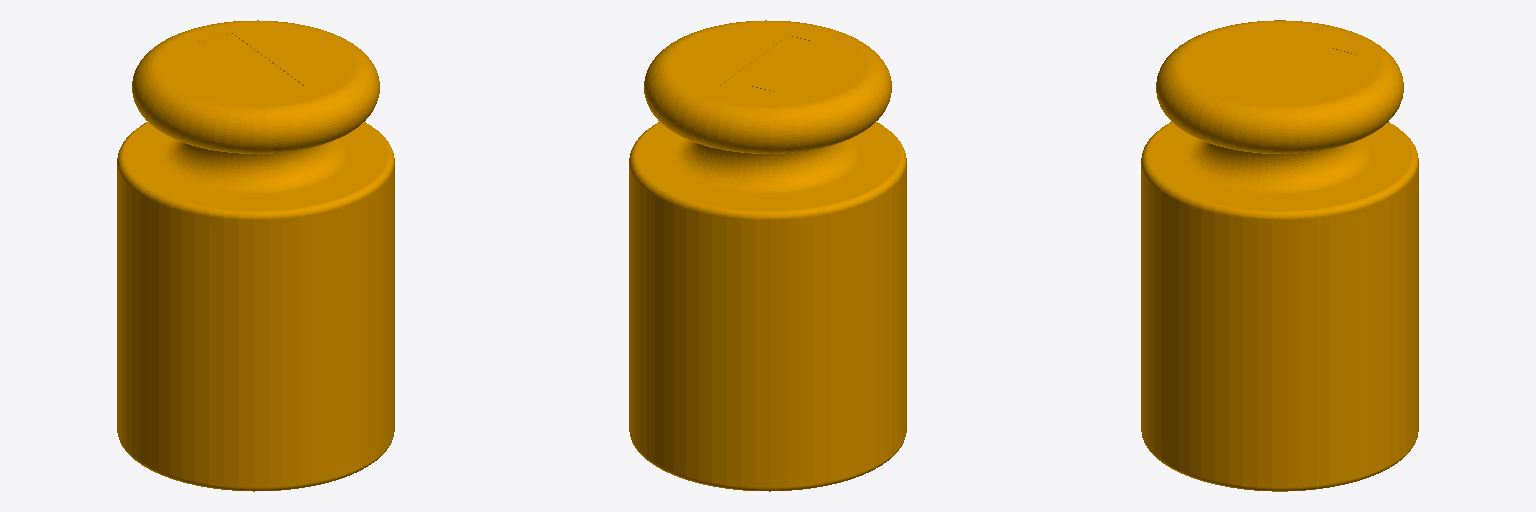
robot.urdf — indenter:
<robot name="indenter">
	<link name="indenter">
		<visual>
			<origin rpy="1.5707963267948966 0.0 0.0" xyz="0.0 0.0 0.0"/>
			<geometry>
				<mesh filename="../weights/Test_Weight_1G.obj"/>
			</geometry>
		</visual>
		<collision>
			<origin rpy="1.5707963267948966 0.0 0.0" xyz="0.0 0.0 0.0"/>
			<geometry>
				<mesh filename="../weights/Test_Weight_1G.obj"/>
			</geometry>
            <sdf resolution="256"/>
		</collision>
		<inertial>
			<origin rpy="0.0 0.0 0.0" xyz="0.0 0.0 0.0"/>
			<mass value="0.001"/>
			<inertia ixx="1.14764e-7" iyy="8.89985e-8" izz="1.14738e-7" ixy="0.0" ixz="-4.72875e-14" iyz="0.0"/>
		</inertial>
	</link>
</robot>

--- What the picture shows (computed from the rendered views, not written in the file) ---
Views: 3 orthographic renders of the robot side by side, from view 1: azimuth 30°, elevation 25°; view 2: azimuth 150°, elevation 25°; view 3: azimuth 270°, elevation 25°.
Robot: indenter — 1 links, 0 joints (none); root link indenter; default pose: all joints at 0.
Links seen in each view (by area): view 1: indenter; view 2: indenter; view 3: indenter.
Boxes of the visible links, x1,y1,x2,y2 form: indenter: [117, 20, 394, 491]; indenter: [629, 20, 906, 491]; indenter: [1141, 20, 1418, 491].
Size in the robot's own frame: 0.005 by 0.005 by 0.0074 metres.
Meshes: 1 distinct files referenced, 1 mesh visuals loaded (1 OBJ).